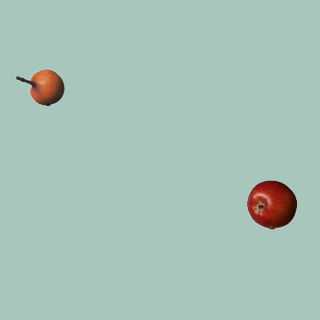Apple Braeburn: (246, 179, 296, 229)
Granadilla: (14, 62, 64, 112)
